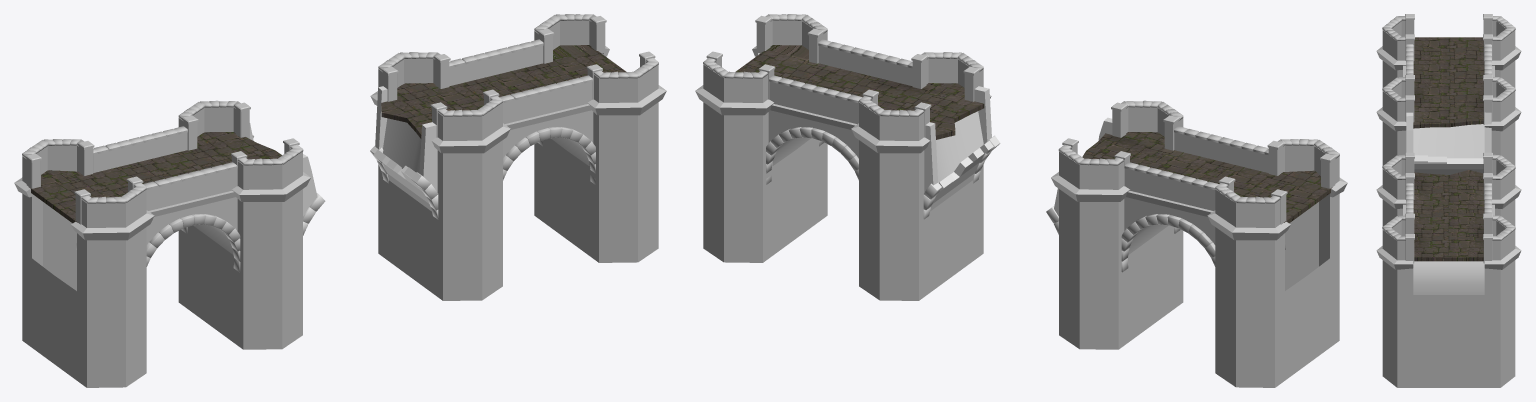
Rendered from Bridge.fbx.
3 renders of one model, left to right at view 1: azimuth 30°, elevation 25°; view 2: azimuth 150°, elevation 25°; view 3: azimuth 270°, elevation 25°, orthographic. The views are drawn at different scales.
Parts seen in each view (by area): view 1: Box004, Box003, Box001, Box002, Plane001, Object024, Object023, Object022, Object037, Object035; view 2: Box004, Box003, Box001, Box002, Plane001, Object024, Object023, Object022, Object037, Object035; view 3: Box003, Plane001, Box002, Box001, Box004, Object023, Object036, Object034, Object022, Object024.
Part boxes in pixels (<box>): Box004: <box>14,139,154,387</box>; Box003: <box>534,14,666,262</box>; Box001: <box>370,52,510,300</box>; Box002: <box>178,100,310,349</box>; Plane001: <box>29,45,626,223</box>; Object024: <box>76,126,240,272</box>; Object023: <box>449,39,595,184</box>; Object022: <box>249,86,438,235</box>; Object037: <box>383,118,421,173</box>; Object035: <box>373,150,431,211</box>; Box004: <box>1207,139,1347,387</box>; Box003: <box>695,14,827,262</box>; Box001: <box>851,52,991,300</box>; Box002: <box>1051,100,1183,349</box>; Plane001: <box>735,45,1332,223</box>; Object024: <box>1121,126,1285,272</box>; Object023: <box>766,39,912,184</box>; Object022: <box>923,86,1112,234</box>; Object037: <box>936,111,983,182</box>; Object035: <box>930,141,993,210</box>; Box003: <box>1376,213,1521,387</box>; Plane001: <box>1413,37,1484,261</box>; Box002: <box>1376,75,1521,165</box>; Box001: <box>1376,152,1521,226</box>; Box004: <box>1376,14,1521,87</box>; Object023: <box>1403,183,1494,294</box>; Object036: <box>1413,124,1484,158</box>; Object034: <box>1414,155,1483,174</box>; Object022: <box>1404,112,1491,154</box>; Object024: <box>1403,44,1494,76</box>.
Size of the model in its own units: 23.46 by 6.33 by 7.26.
